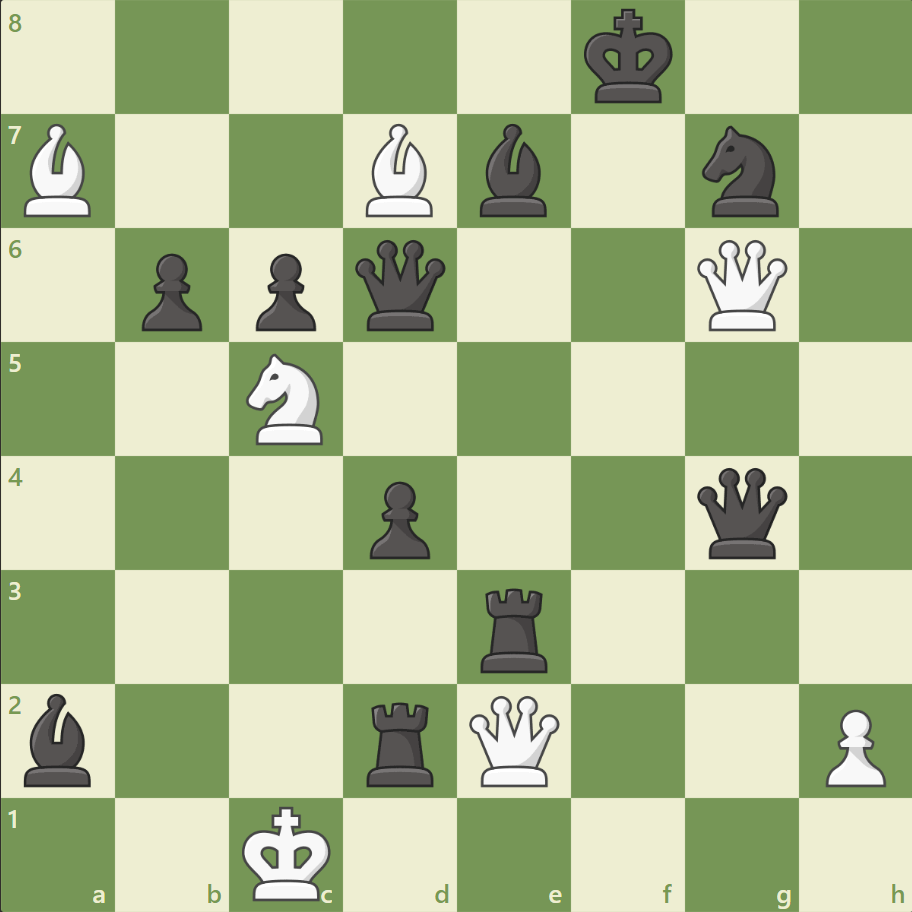B: (17, 120, 101, 222), (358, 120, 442, 222)
K: (238, 798, 338, 906)
N: (238, 348, 335, 450)
P: (815, 700, 889, 791)
Q: (691, 236, 790, 335), (464, 690, 563, 789)
b: (17, 687, 101, 790), (471, 120, 555, 222)
k: (579, 4, 679, 112)
n: (692, 121, 789, 223)
p: (133, 246, 208, 337), (247, 246, 322, 337), (361, 473, 435, 564)
q: (351, 236, 450, 335), (691, 463, 790, 562)
r: (473, 579, 556, 676), (360, 693, 442, 790)
